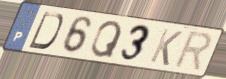3: (118, 23, 155, 64)
6: (60, 15, 94, 56)
D: (26, 10, 66, 51)
K: (148, 27, 184, 68)
Q: (89, 20, 125, 60)
R: (170, 30, 215, 74)
